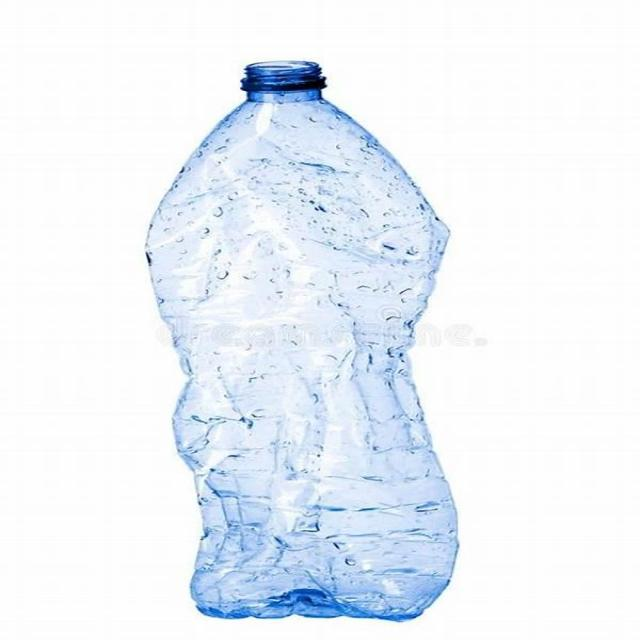plastic bottle: (148, 57, 462, 623)
